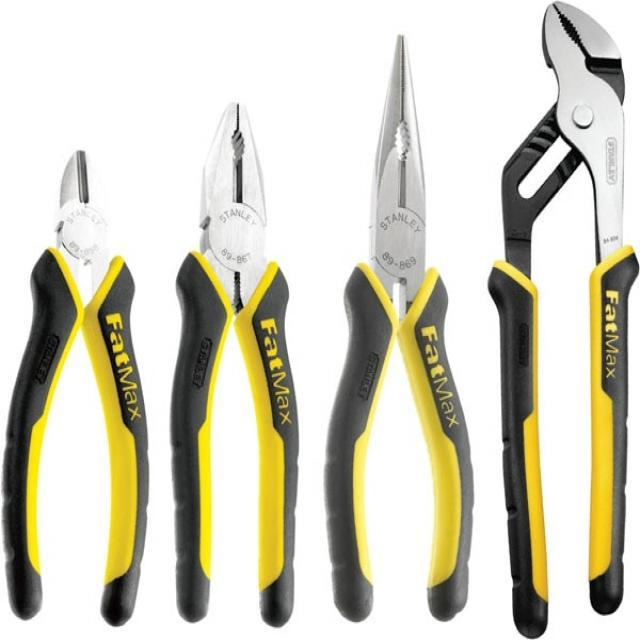pliers: (480, 0, 636, 640), (316, 24, 477, 626), (160, 89, 305, 633), (5, 145, 154, 634)
